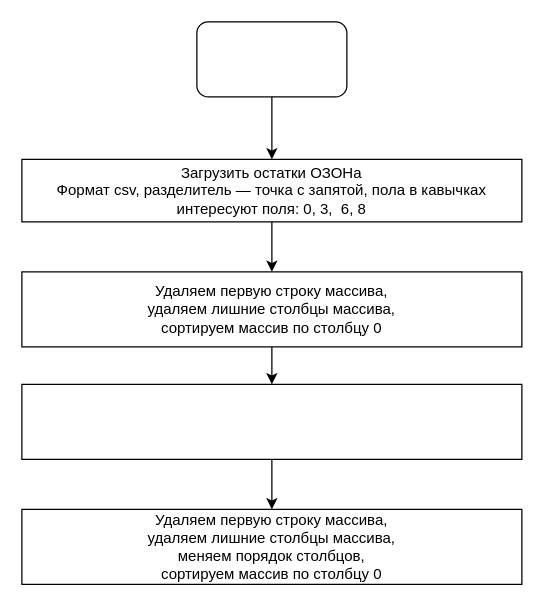
Some shapes in this 544 by 606 pixel diagram are drawn without their labels. Here are the shapes that lost their labels. From the top down, the box of each, then its label:
(196, 21, 347, 97): start
(21, 383, 522, 459): Загрузить текущие остатки склада Формат аналогичный, интересуют поля 1 и 2
